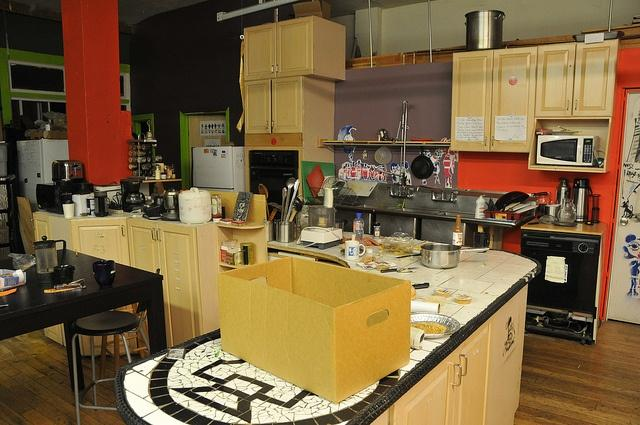Lemari: (125, 217, 202, 348), (450, 38, 536, 152), (243, 14, 314, 133), (533, 36, 617, 114)
Meja: (0, 246, 165, 358)
